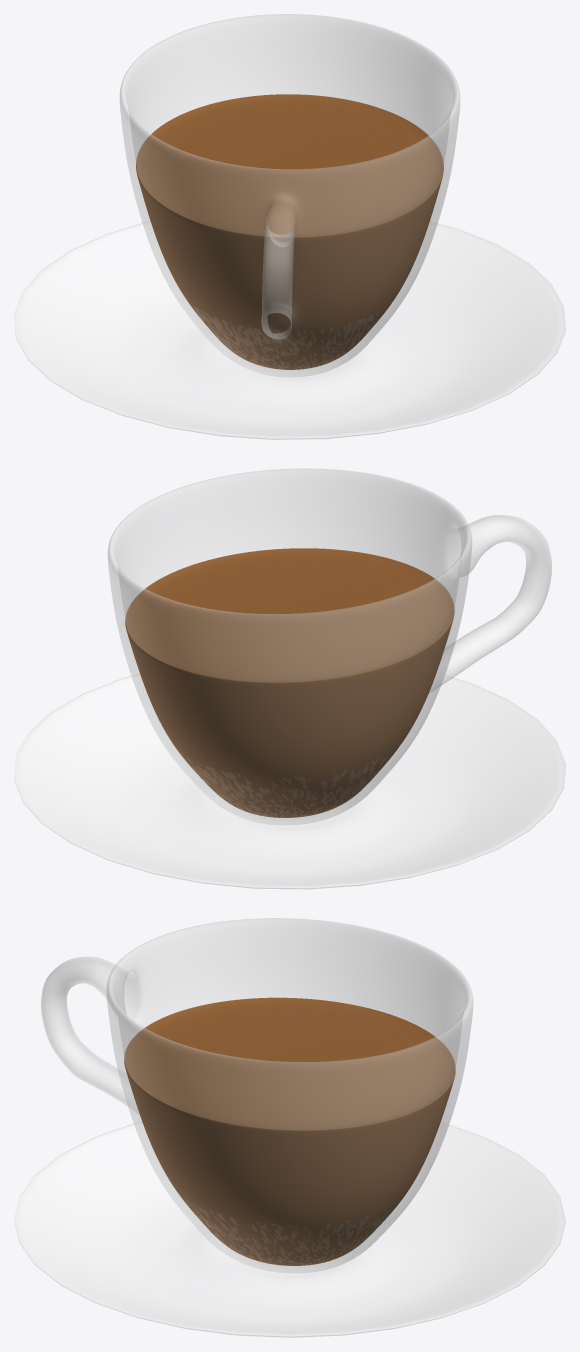
Rendered from coffee_cup.glb.
3 views of the same model, one above another, from view 1: azimuth 30°, elevation 25°; view 2: azimuth 150°, elevation 25°; view 3: azimuth 270°, elevation 25° (orthographic).
Visible parts, largest first — view 1: Cup_3, Saucer_4, Liquid_2; view 2: Cup_3, Saucer_4, Liquid_2; view 3: Cup_3, Saucer_4, Liquid_2.
Part boxes in pixels (box(x1,y1,x2,y2)): Cup_3: box(120, 14, 459, 377); Saucer_4: box(14, 221, 565, 439); Liquid_2: box(136, 94, 443, 369); Cup_3: box(108, 468, 551, 824); Saucer_4: box(14, 674, 565, 889); Liquid_2: box(125, 548, 454, 817); Cup_3: box(41, 918, 472, 1272); Saucer_4: box(14, 1121, 565, 1337); Liquid_2: box(124, 997, 455, 1265).
Bounding box in the file's own units: 0.2321 × 0.1255 × 0.2321.
